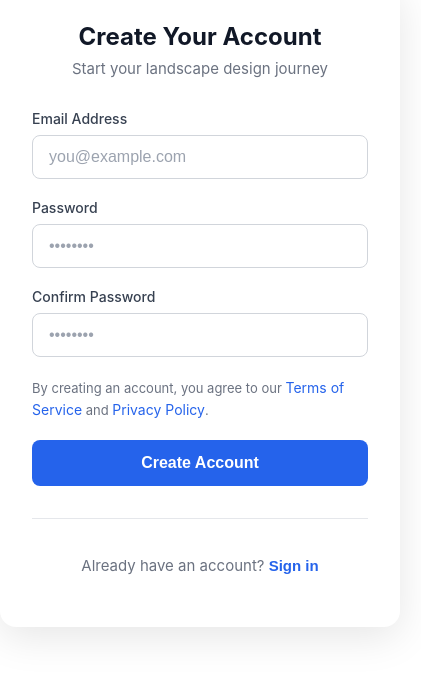
Password Strength Indicator › should show weak strength for simple password
Type "abc" into the password field labelled "Password" at (200, 246), box [32,224,368,268]
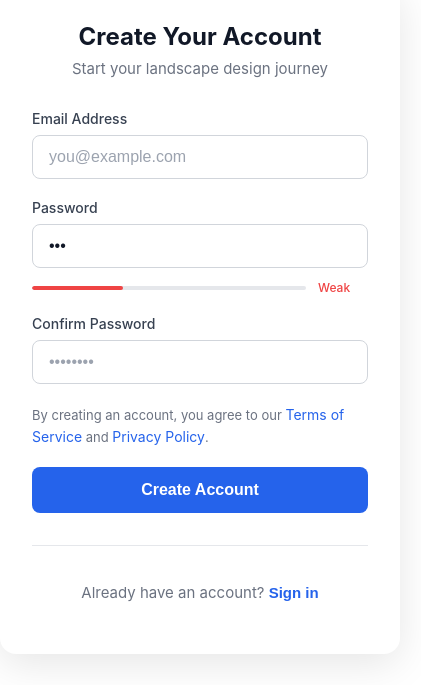
Result: the text "Weak" is shown at [318,280,350,295]
